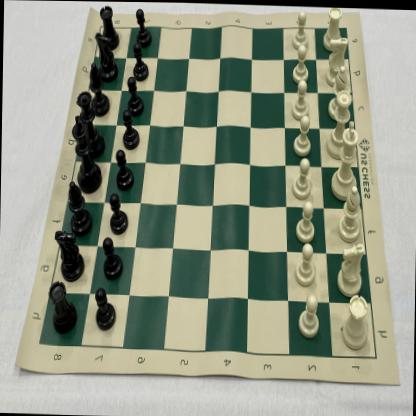black-bishop: (66, 179, 92, 235), (87, 62, 110, 115)
black-king: (70, 114, 102, 193)
black-knight: (53, 228, 85, 280), (93, 32, 118, 80)
black-pawn: (93, 287, 118, 330), (100, 237, 122, 280), (113, 149, 136, 189), (108, 190, 128, 235), (121, 108, 140, 150), (132, 40, 150, 81), (126, 74, 144, 115), (134, 7, 152, 47)
black-queen: (75, 91, 105, 156)
black-rook: (46, 281, 77, 335), (98, 5, 119, 48)
white-bishop: (338, 183, 362, 241), (328, 64, 350, 120)
white-king: (330, 119, 360, 199)
white-knight: (336, 240, 366, 296), (324, 34, 348, 84)
white-pawn: (293, 242, 320, 286), (296, 294, 321, 339), (295, 200, 318, 242), (291, 114, 314, 156), (290, 156, 312, 199), (290, 9, 310, 51), (290, 79, 309, 120), (290, 44, 310, 82)
white-queen: (326, 86, 354, 159)
white-rook: (340, 289, 370, 349), (322, 6, 343, 50)
